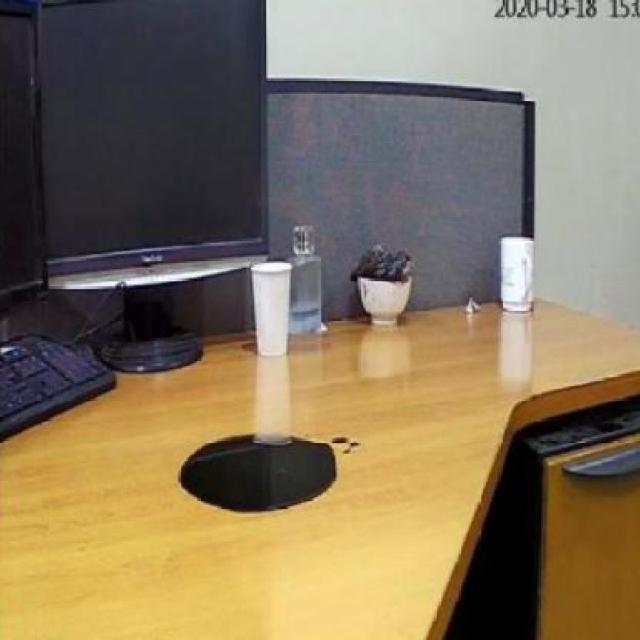spillage: (179, 435, 360, 515)
